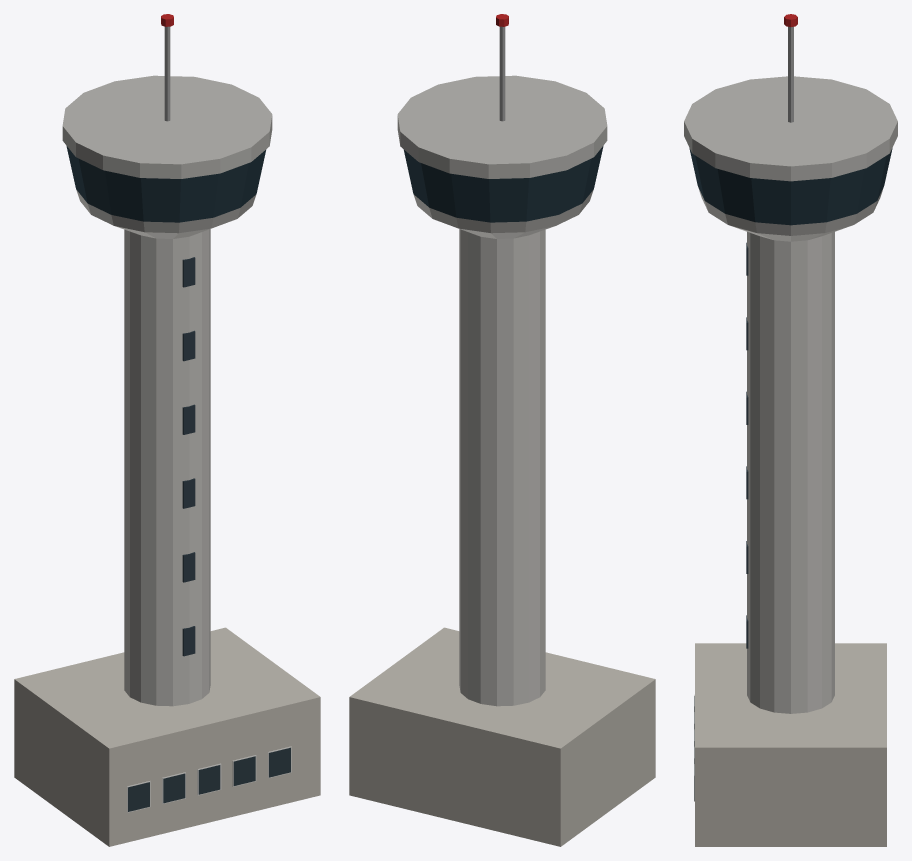
File: ns_tower_lod1.glb
3 renders of one model, left to right at view 1: azimuth 30°, elevation 25°; view 2: azimuth 150°, elevation 25°; view 3: azimuth 270°, elevation 25°, orthographic.
Parts seen in each view (by area): view 1: ns_tower_lod1; view 2: ns_tower_lod1; view 3: ns_tower_lod1.
Part boxes in pixels (left/top/right/bottom): ns_tower_lod1: left=14, top=14, right=320, bottom=846; ns_tower_lod1: left=349, top=14, right=655, bottom=846; ns_tower_lod1: left=684, top=14, right=897, bottom=846.
Size of the model in its own units: 18 by 62.6 by 15.6.
